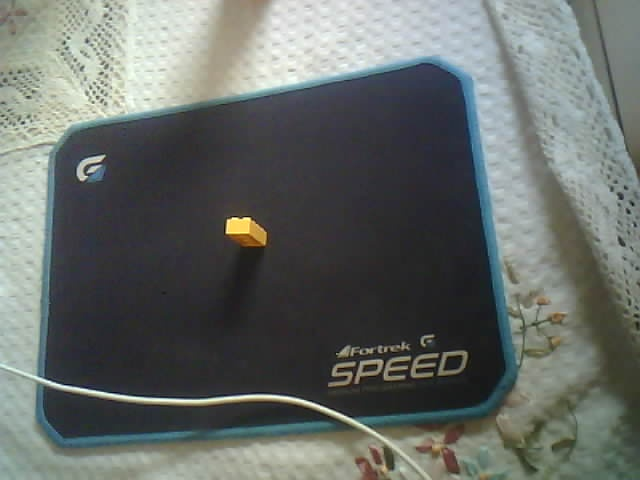lego: (224, 216, 268, 249)
